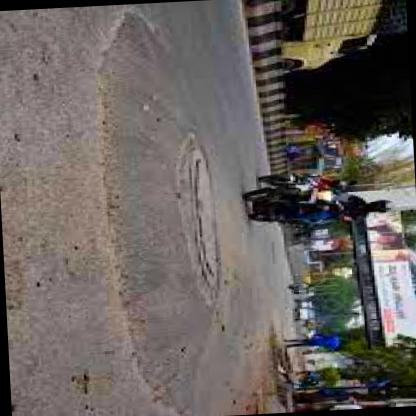manholes: (179, 150, 228, 290)
